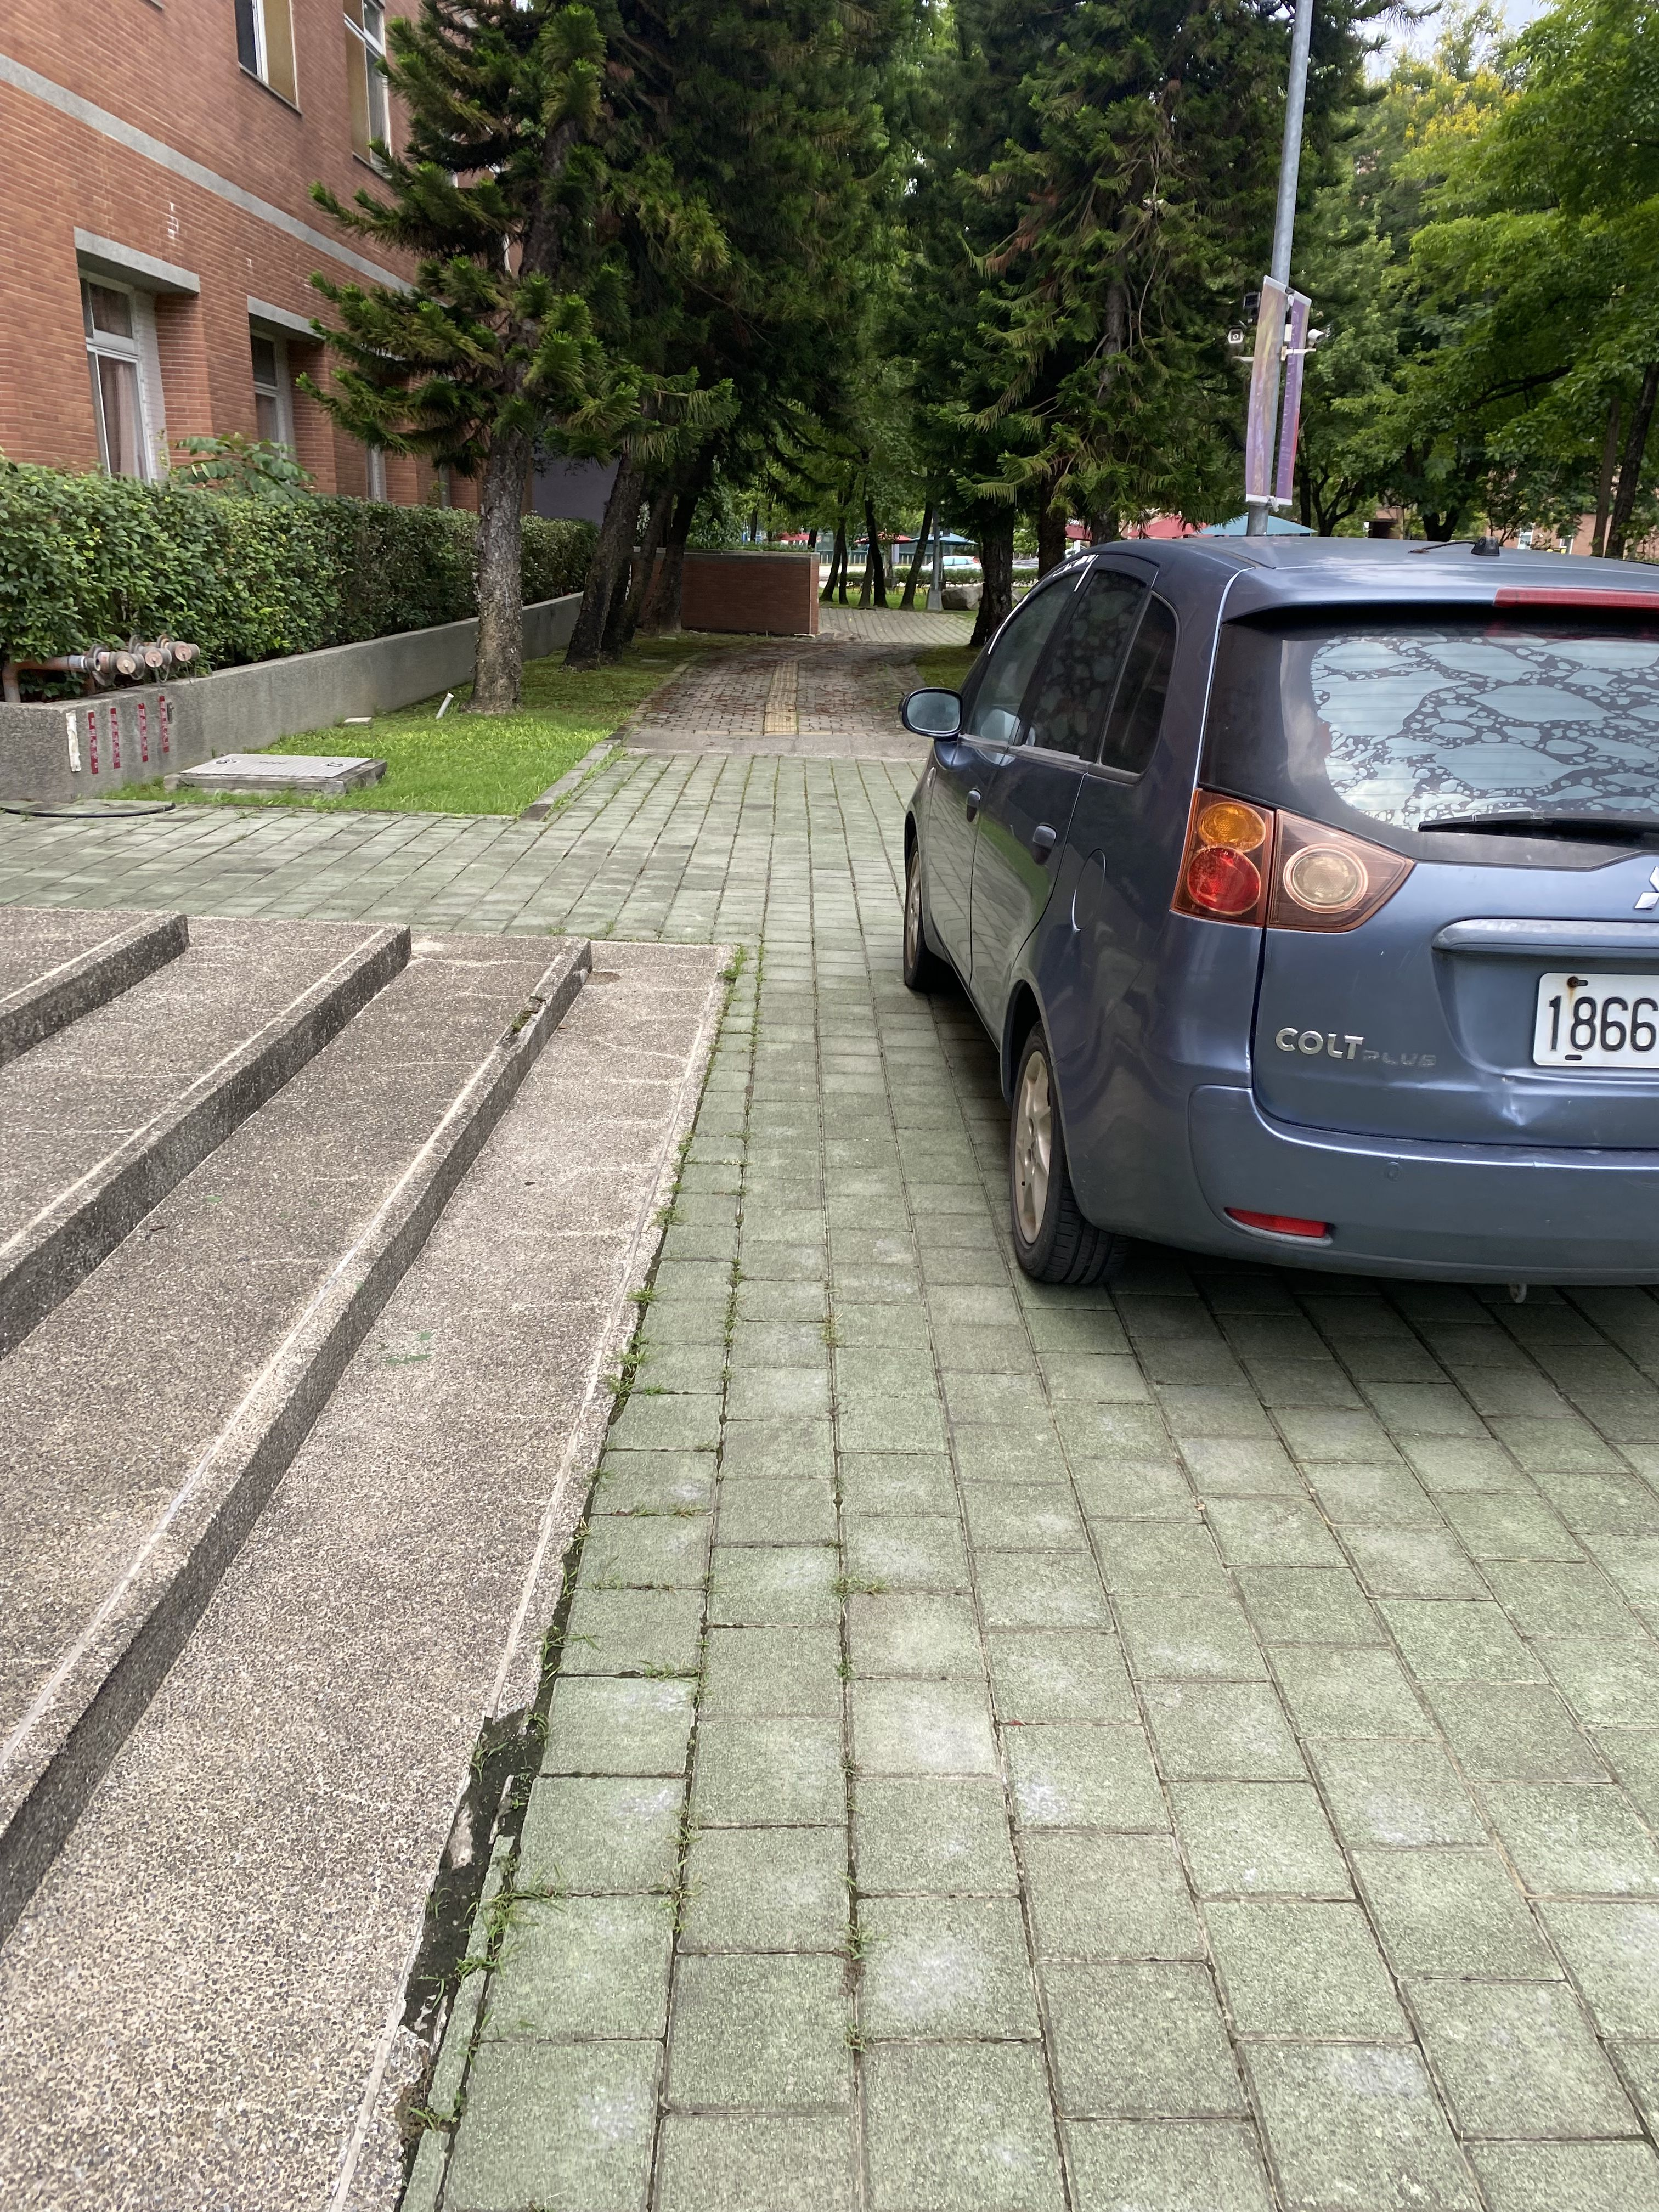sidewalk: (580, 585, 1659, 2212)
